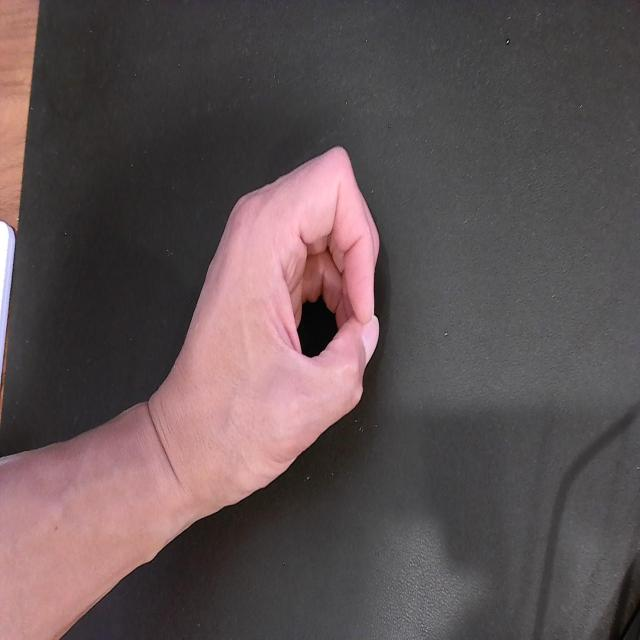O: (169, 141, 382, 506)
